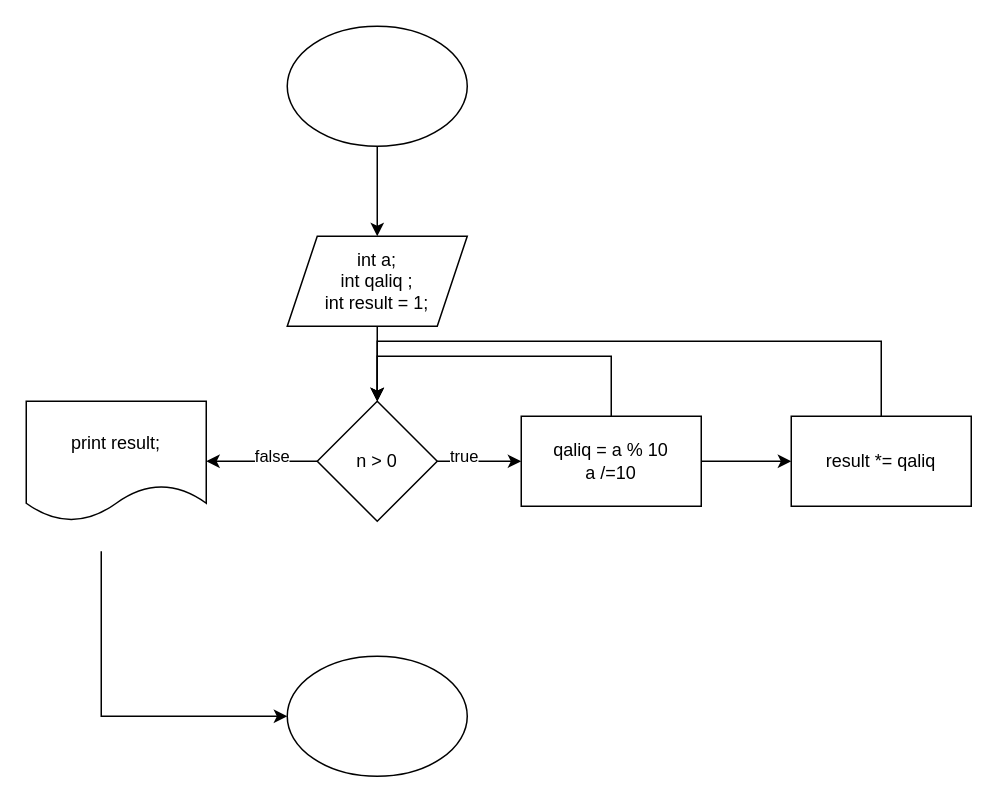
This 998x803 diagram has some shape labels left out. The shapes that lost their labels are listed below. From the top down, each one's centre as x and y in pixels, then its label:
At pixel 376 85: "Start".
At pixel 376 715: "end".
